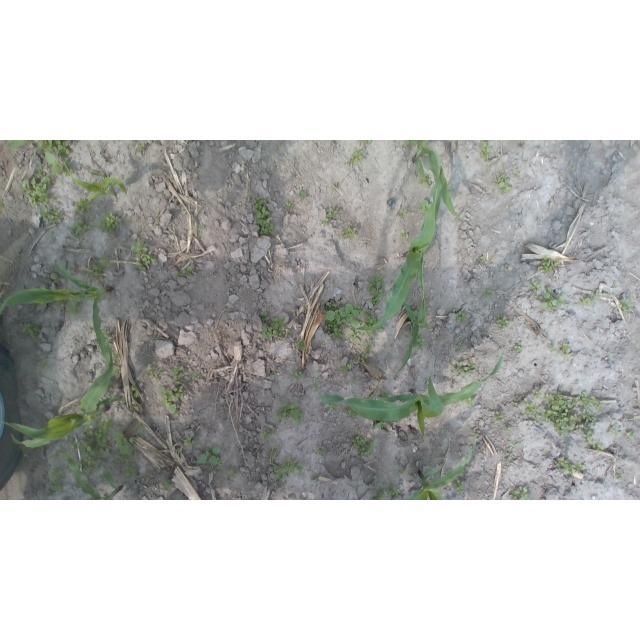Maize: (0, 298, 124, 448), (314, 351, 505, 433), (360, 152, 443, 334), (0, 262, 112, 318), (406, 140, 468, 220), (402, 437, 478, 500), (399, 252, 429, 377), (57, 449, 124, 500), (62, 162, 126, 201)
Weeds: (542, 390, 585, 436), (22, 164, 53, 208), (324, 302, 361, 337), (274, 398, 305, 427), (254, 196, 275, 235), (261, 316, 292, 340), (95, 415, 114, 454), (46, 152, 75, 177), (66, 436, 98, 458), (538, 288, 567, 311), (367, 271, 385, 306), (196, 445, 224, 467), (362, 310, 383, 339), (351, 436, 377, 459), (48, 466, 66, 493), (38, 141, 70, 156), (100, 212, 121, 234), (78, 457, 101, 476), (452, 360, 477, 377), (580, 392, 605, 409), (281, 458, 306, 475), (115, 433, 133, 456), (578, 290, 602, 307), (555, 457, 576, 476), (40, 207, 62, 225), (537, 255, 559, 273), (164, 391, 179, 417), (21, 323, 43, 340), (494, 174, 511, 194), (70, 219, 87, 238), (66, 299, 84, 316), (581, 425, 596, 445), (510, 486, 530, 500), (479, 140, 492, 161), (606, 425, 623, 441), (131, 241, 147, 258), (360, 343, 374, 362), (74, 197, 90, 213), (146, 367, 163, 382), (338, 225, 356, 239), (260, 427, 276, 442), (451, 478, 465, 495), (559, 343, 572, 361), (349, 149, 365, 163), (372, 486, 387, 500), (619, 297, 633, 312), (172, 382, 184, 399), (6, 140, 28, 149), (582, 408, 596, 422), (273, 466, 288, 479), (36, 360, 51, 373), (419, 200, 431, 216), (388, 483, 401, 497), (227, 466, 240, 480), (498, 314, 511, 328), (456, 309, 469, 323), (533, 409, 545, 424), (463, 395, 478, 407), (141, 253, 156, 265), (524, 402, 537, 415), (492, 411, 505, 424), (172, 366, 185, 379), (420, 174, 433, 187), (289, 370, 305, 380), (504, 453, 516, 466), (90, 264, 103, 276), (326, 208, 338, 221), (348, 330, 361, 342), (527, 281, 541, 292), (314, 445, 326, 457), (415, 336, 427, 348), (340, 363, 353, 374), (295, 338, 306, 351), (185, 436, 196, 448), (124, 465, 136, 476), (136, 261, 148, 272), (592, 442, 605, 452), (374, 419, 387, 429), (481, 288, 494, 298), (453, 342, 463, 355), (506, 442, 520, 451), (344, 409, 358, 418), (410, 309, 419, 323), (575, 461, 585, 473), (163, 478, 173, 490), (83, 423, 93, 435), (101, 329, 111, 341), (513, 341, 523, 353), (112, 351, 121, 364), (99, 259, 112, 268), (626, 430, 637, 440), (297, 190, 307, 201), (185, 267, 196, 277), (259, 311, 270, 321), (325, 404, 337, 413), (132, 385, 141, 397), (532, 388, 542, 398), (55, 298, 65, 308), (405, 140, 417, 148), (117, 455, 129, 463), (111, 365, 121, 374), (400, 229, 409, 239), (53, 274, 61, 285), (139, 144, 148, 153), (357, 305, 366, 314), (105, 382, 115, 390), (455, 331, 465, 339), (548, 344, 557, 352), (65, 465, 73, 474), (192, 374, 200, 382), (286, 201, 294, 209), (136, 423, 145, 430), (20, 445, 29, 452), (88, 222, 95, 231), (614, 282, 623, 289), (362, 140, 374, 145), (355, 426, 362, 434), (322, 218, 329, 226), (399, 210, 407, 217), (332, 183, 339, 191), (381, 391, 389, 398), (131, 402, 137, 411), (159, 387, 166, 394), (50, 455, 59, 460), (505, 427, 512, 433), (605, 351, 612, 357), (569, 167, 575, 174), (512, 398, 520, 403), (516, 172, 521, 180), (267, 372, 277, 376), (398, 469, 404, 475), (176, 271, 182, 277), (479, 256, 485, 262), (199, 224, 206, 229), (1, 199, 4, 210), (617, 473, 622, 479), (475, 430, 481, 435), (312, 475, 317, 481), (441, 427, 445, 434), (176, 448, 181, 453), (634, 151, 639, 156), (371, 397, 377, 401), (296, 497, 303, 500), (133, 219, 138, 223)
